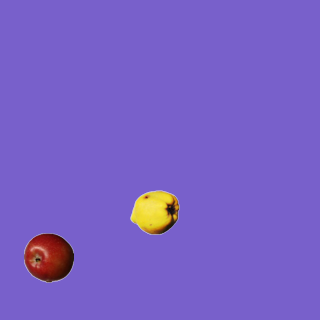Apple Braeburn: (23, 232, 73, 282)
Quince: (129, 187, 179, 237)
